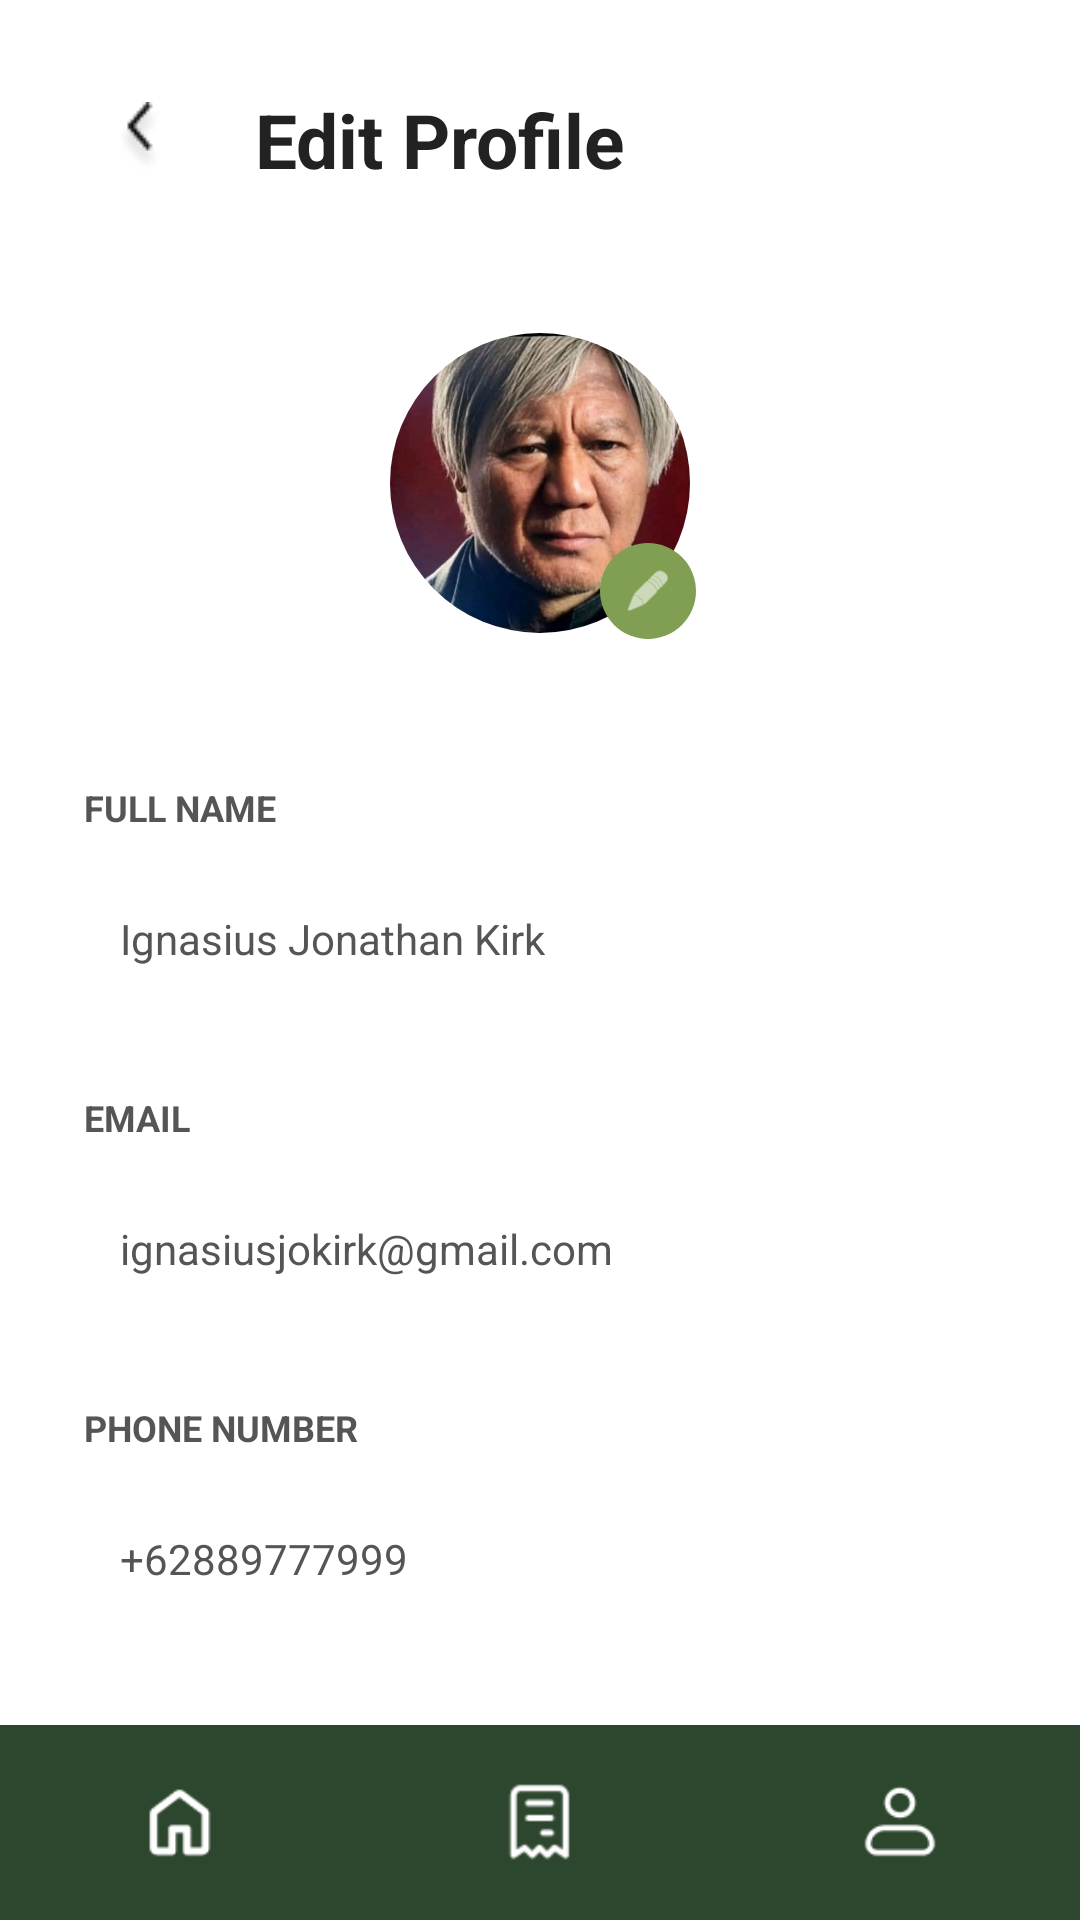

Named icons in this screenshot (1080w x 1920h) and their centers, (x,y):
home: (180,1822)
profile bar: (900,1822)
recipt: (539,1822)
sebelumnya: (140,126)
